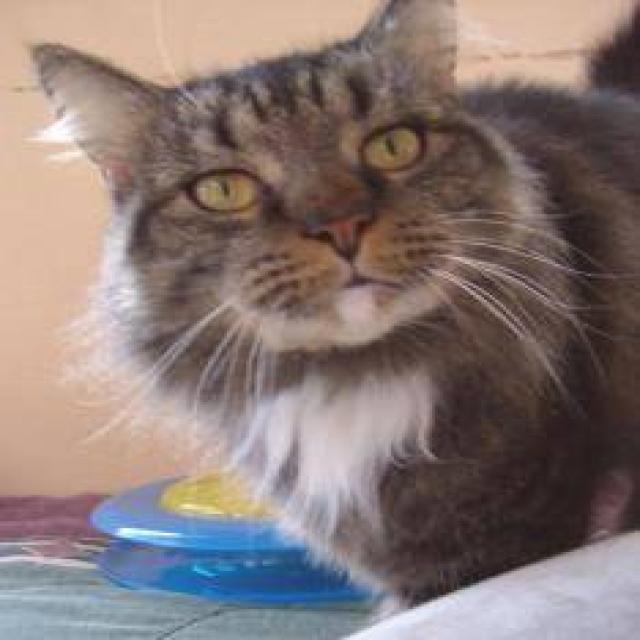cat: (22, 0, 637, 619)
